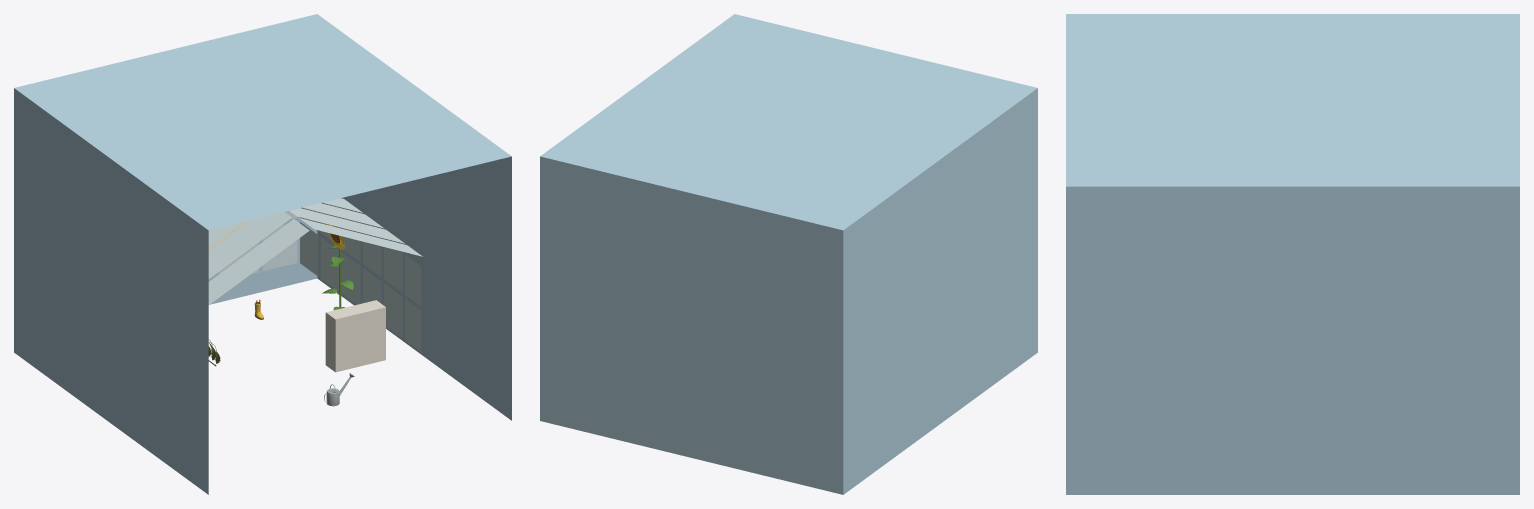
Rendered from room_live_d.glb.
3 renders of one model, left to right at view 1: azimuth 30°, elevation 25°; view 2: azimuth 150°, elevation 25°; view 3: azimuth 270°, elevation 25°, orthographic. The views are drawn at different scales.
Visible parts, largest first — view 1: backdrop_top, backdrop_w, backdrop_e, glass_walls, glass_roof, kitchen_box, backdrop_n; view 2: backdrop_n, backdrop_top, backdrop_w; view 3: backdrop_e, backdrop_top.
Part boxes in pixels (x1,y1,x2,y2): backdrop_top: (14,14,511,230); backdrop_w: (14,88,208,494); backdrop_e: (317,156,511,420); glass_walls: (219,202,421,351); glass_roof: (208,198,422,304); kitchen_box: (325,300,385,372); backdrop_n: (208,216,317,304); backdrop_n: (540,156,843,494); backdrop_top: (540,14,1037,230); backdrop_w: (843,88,1037,494); backdrop_e: (1066,186,1519,494); backdrop_top: (1066,14,1519,186).
Size of the model in its own units: 5.4 by 4.5 by 6.
